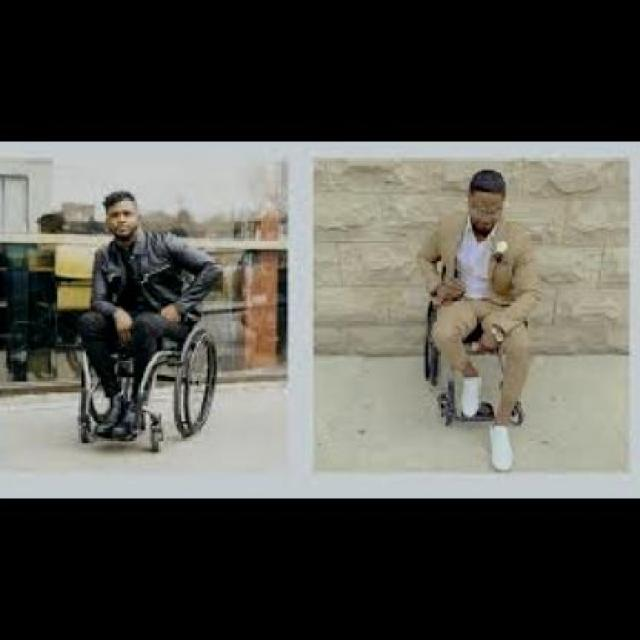wheelchairs: (64, 274, 225, 463), (414, 264, 538, 428)
